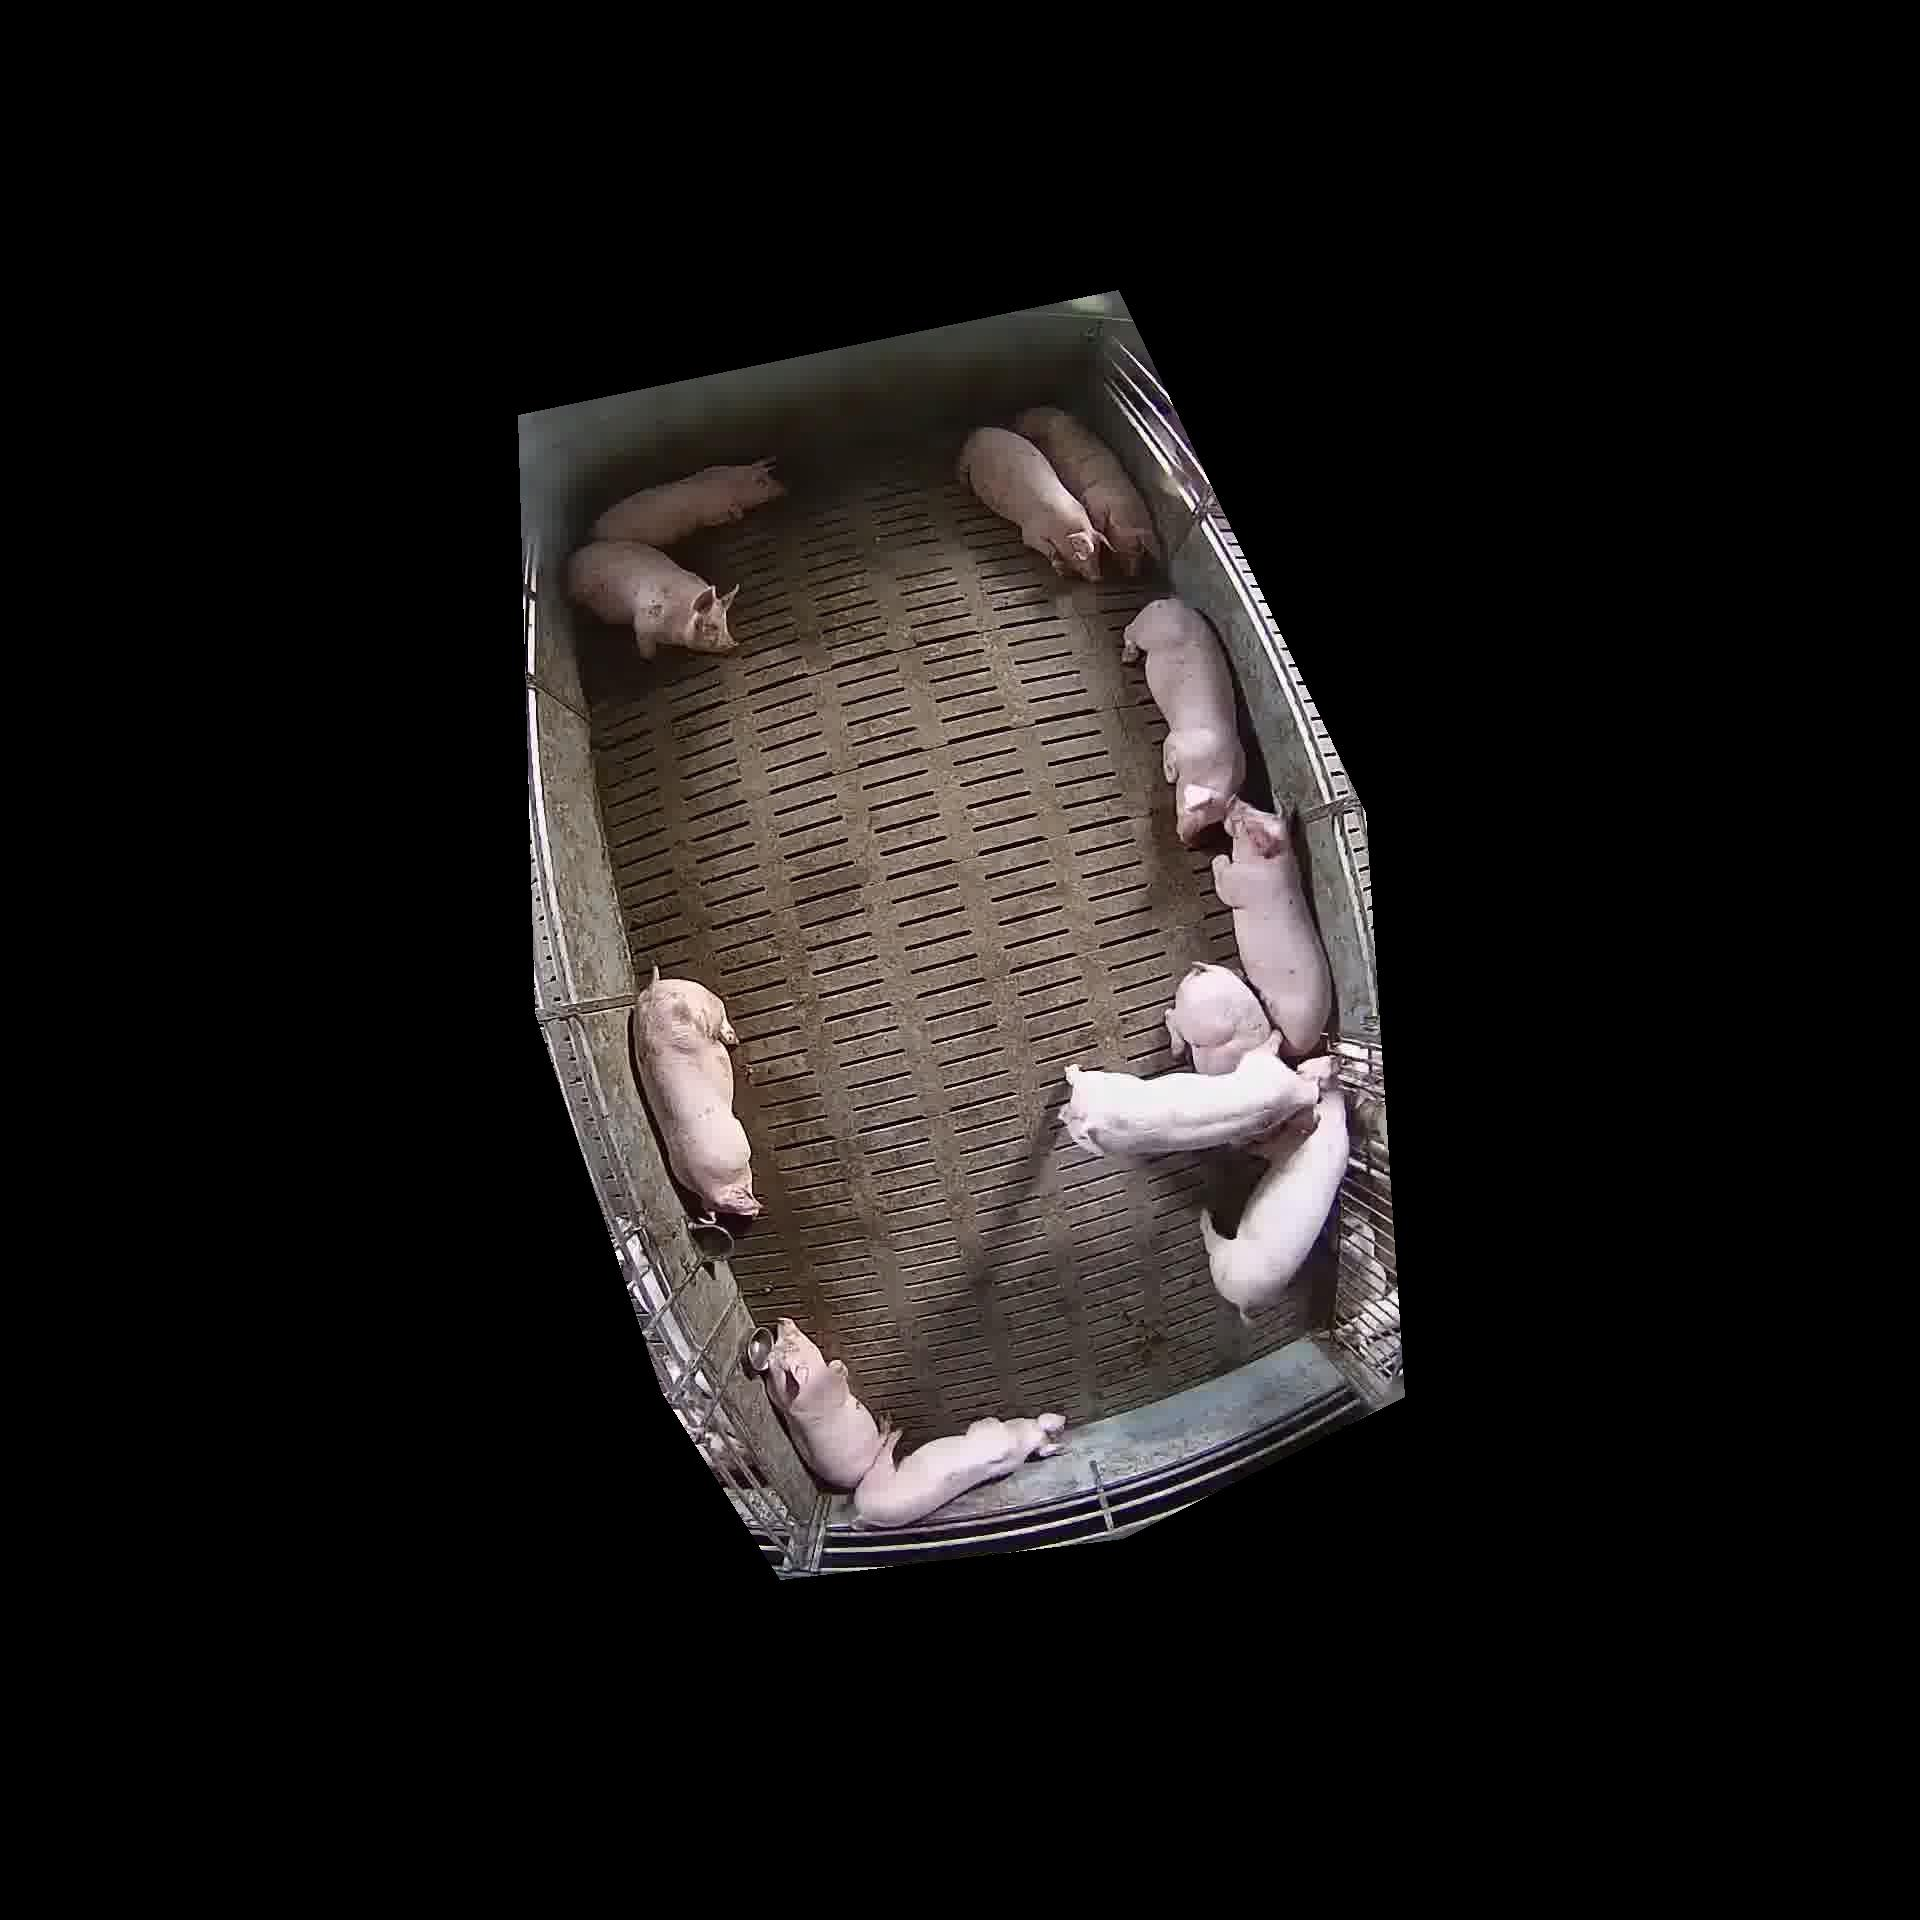pig: (1202, 1088, 1348, 1313), (1212, 800, 1331, 1056), (1123, 597, 1245, 845), (634, 979, 759, 1216), (1060, 1047, 1329, 1155), (1015, 406, 1158, 575), (854, 1413, 1064, 1526), (957, 427, 1101, 580), (764, 1318, 882, 1488), (568, 541, 735, 658), (592, 459, 784, 547), (1165, 962, 1278, 1073)
